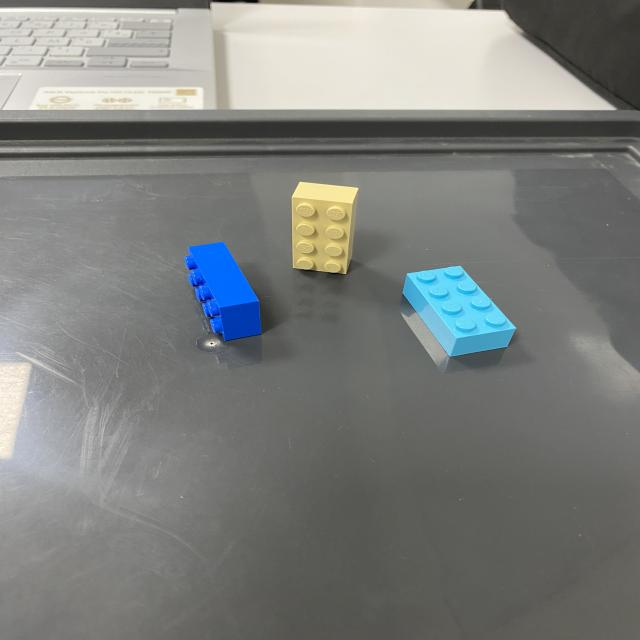C4x2x1: (411, 264, 516, 337), (189, 240, 261, 341), (402, 273, 464, 356), (290, 199, 353, 269), (454, 328, 515, 354), (288, 182, 356, 204)
